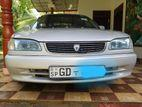car: (7, 10, 138, 97)
